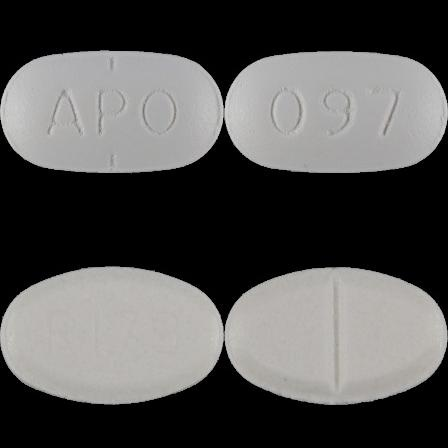63629-3205: (0, 0, 224, 224)
